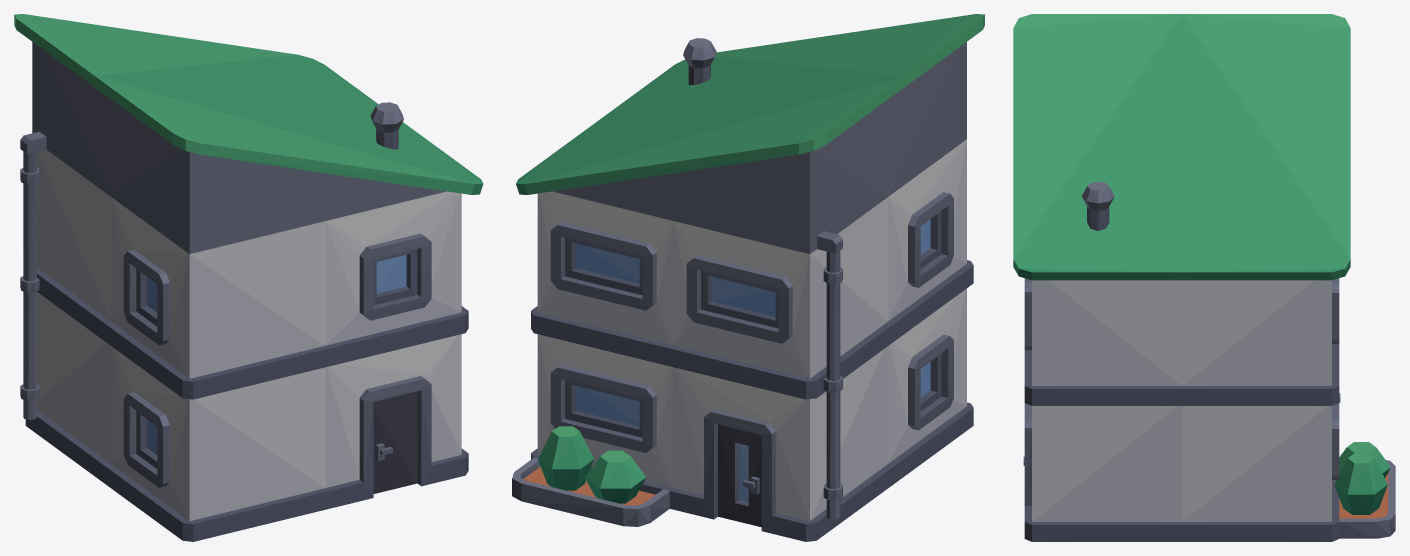
File: house_k.glb
3 views of the same model, side by side, from view 1: azimuth 30°, elevation 25°; view 2: azimuth 150°, elevation 25°; view 3: azimuth 270°, elevation 25° (orthographic). The views are drawn at different scales.
Parts seen in each view (by area): view 1: house_k; view 2: house_k; view 3: house_k.
Boxes of the visible parts, x1,y1,x2,y2 form: house_k: (14, 14, 483, 541); house_k: (512, 14, 984, 541); house_k: (1013, 14, 1395, 541).
Size of the model in its own units: 0.9209 by 1.15 by 1.02.
